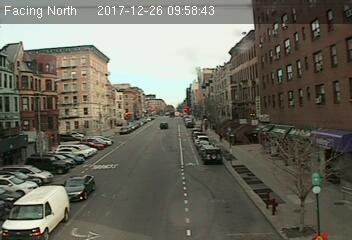car: (62, 173, 95, 201), (202, 147, 223, 165)
truck: (1, 184, 71, 240)
